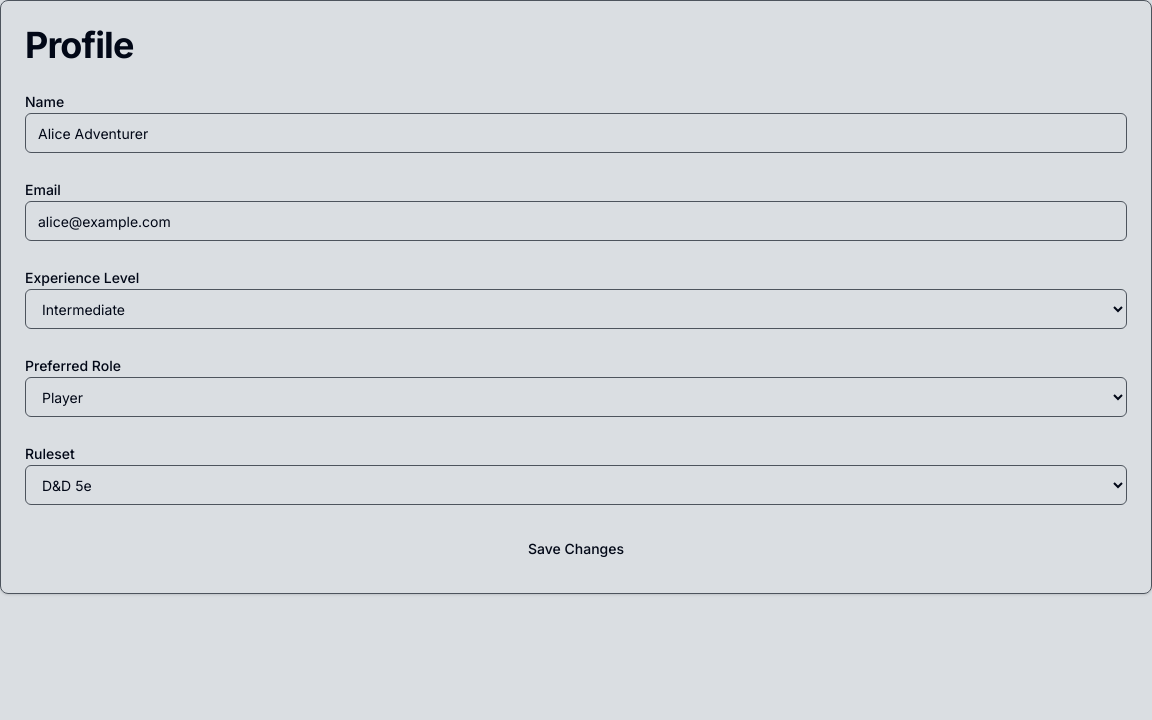
Scenario: ProfileForm › shows success toast on successful save
The width and height of the screenshot is (1152, 720).
Click the button "Save Changes": click(576, 549) [25,529,1127,569]
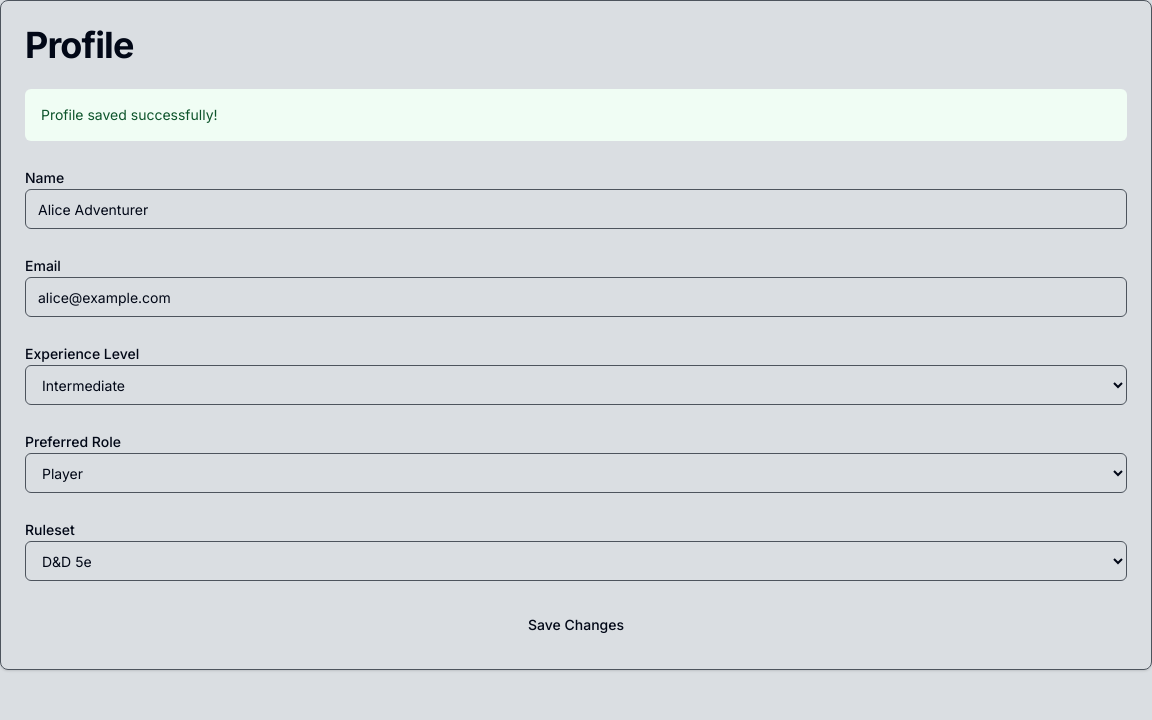
Now the text "Profile saved successfully!" is shown, box [25,89,1127,141]
